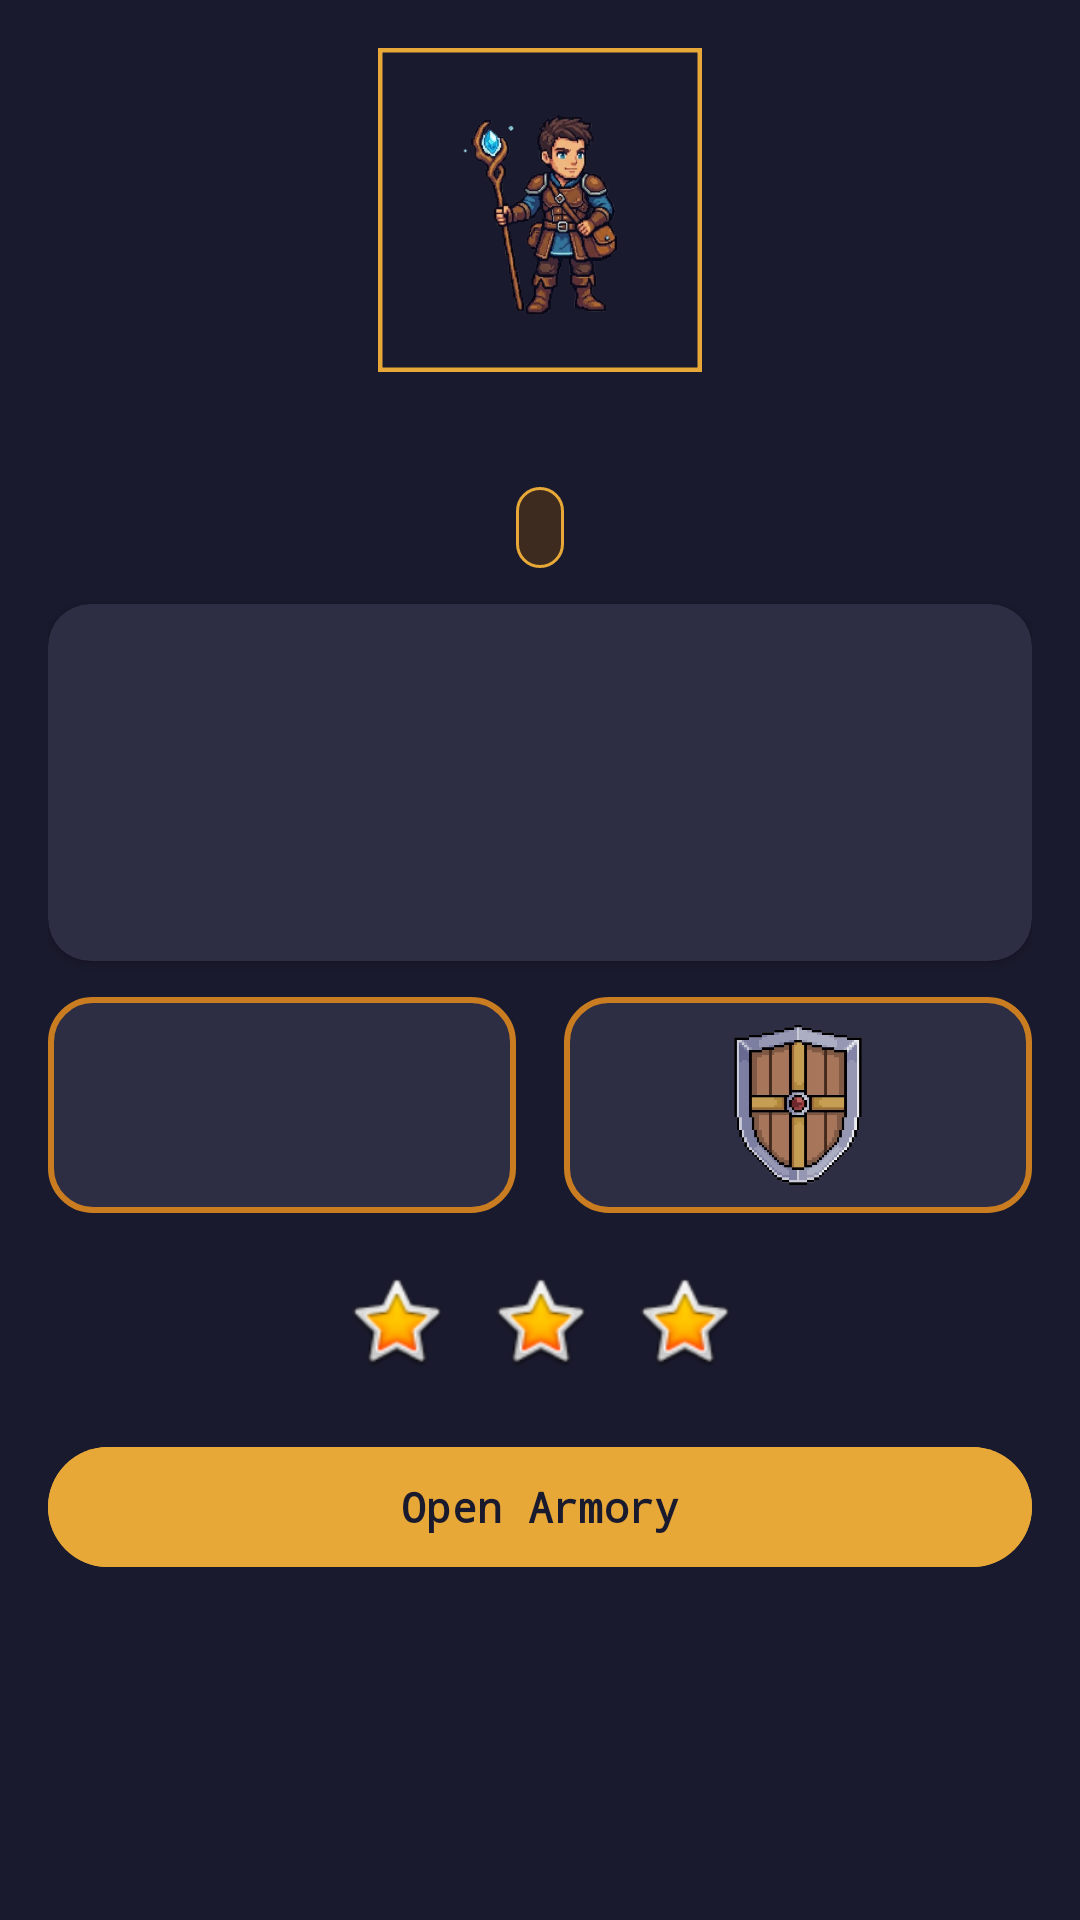

Screen size 1080×1920. Icon name, then its box in pixels as (x1, y1, x2, y2):
Hero avatar: (378, 48, 702, 372)
star on: (354, 1280, 440, 1362), (498, 1280, 584, 1362), (642, 1280, 728, 1362)
